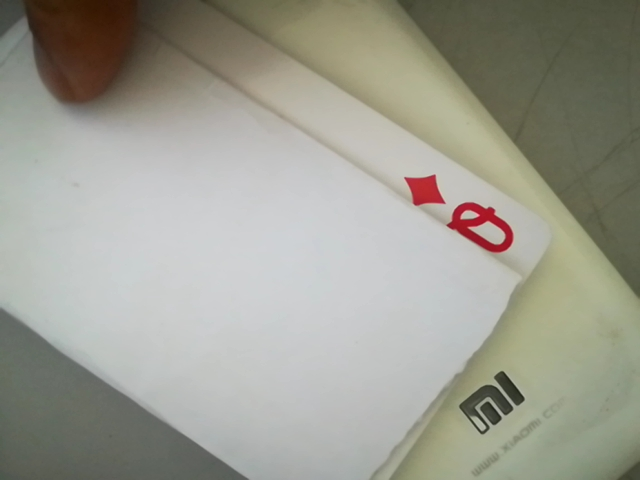fk q: (395, 169, 533, 262)
